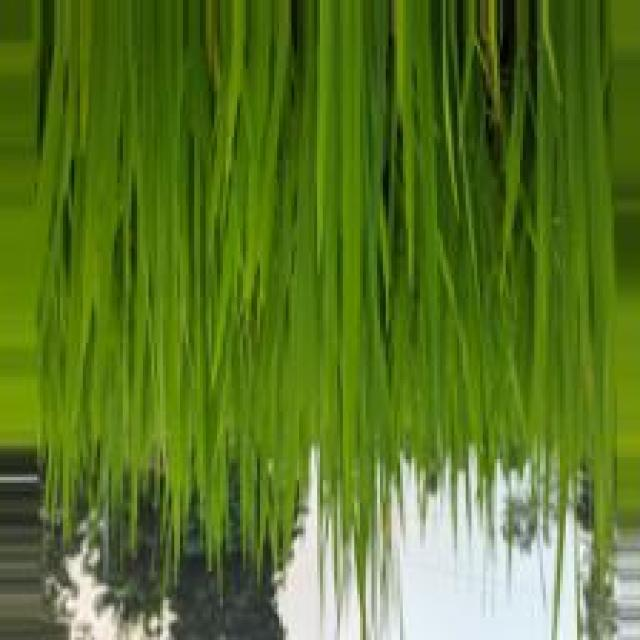HealthyLeaf: (339, 4, 363, 222), (142, 7, 175, 101)
